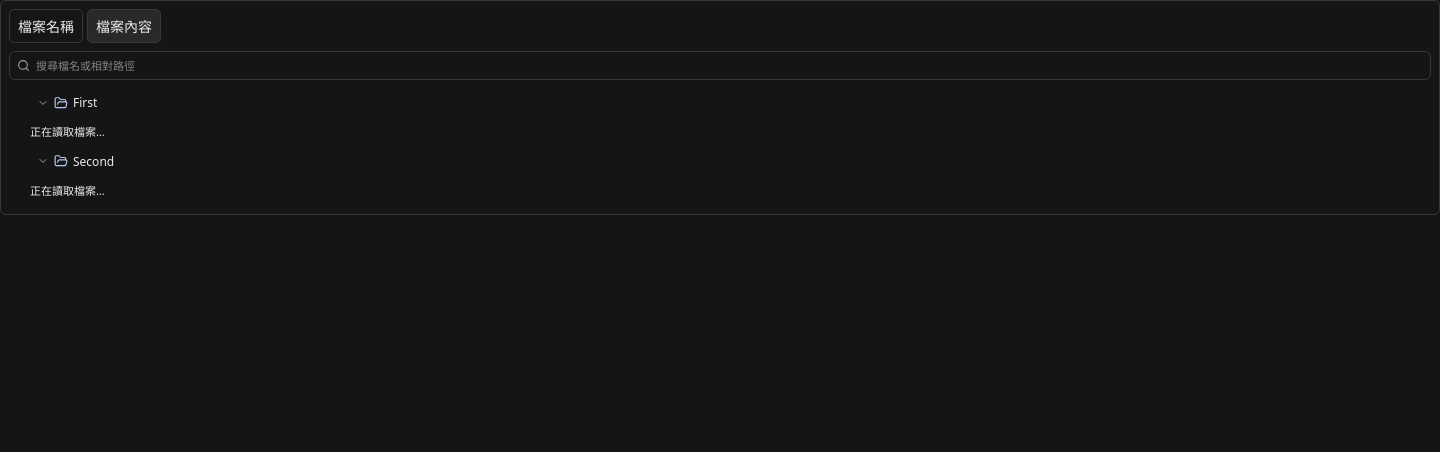
Test: project content search lifecycle › submits one aggregate query explicitly and exposes its effective project filters
The width and height of the screenshot is (1440, 452).
Click the button "檔案內容".
click(124, 26)  # box [87, 9, 161, 43]
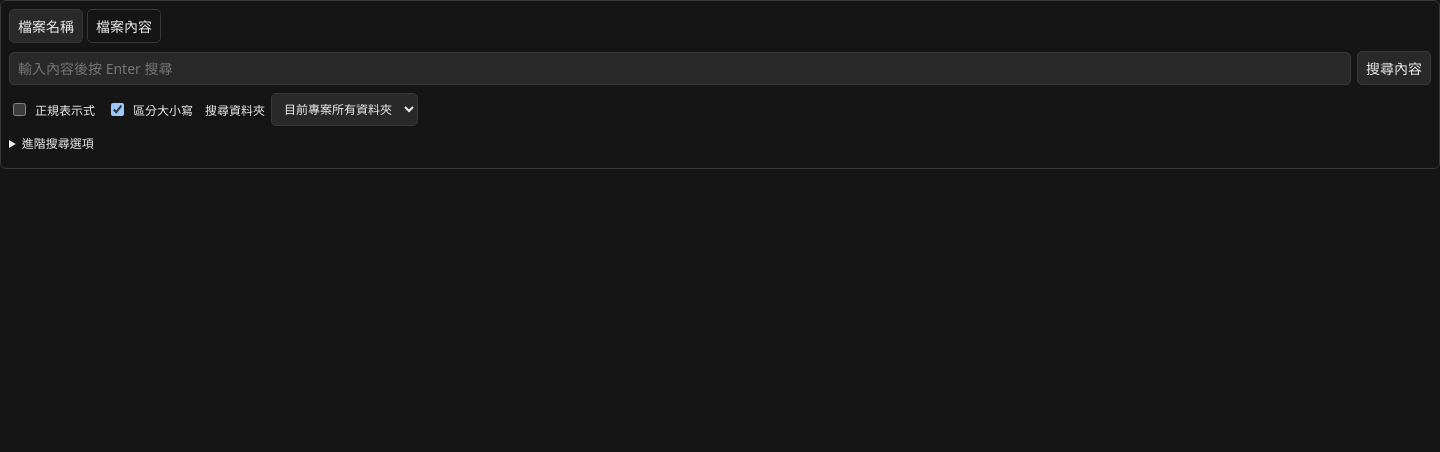
Type "needle" into the field named "搜尋專案檔案內容".
click(680, 68); type("needle")  # box [9, 52, 1351, 84]
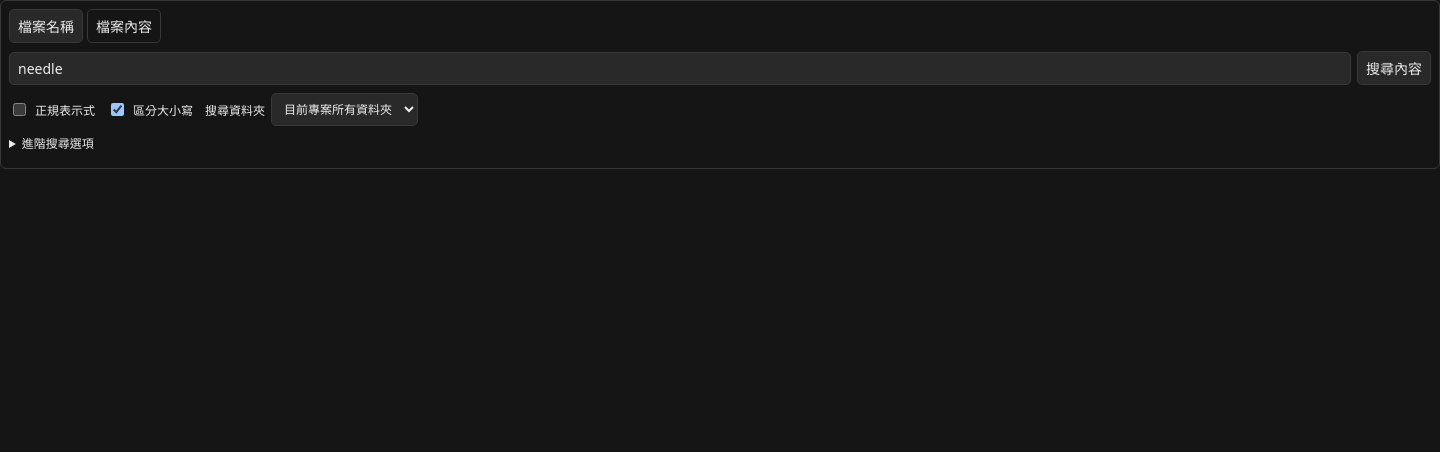
Submit the form named "搜尋檔案內容", box [9, 51, 1431, 152]
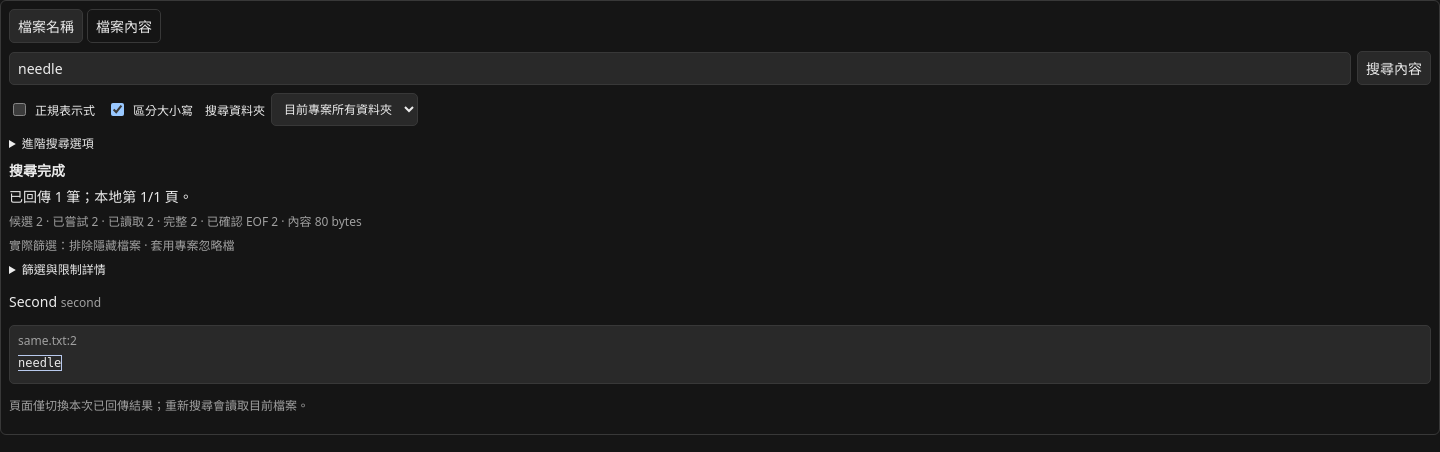
Now the button with aria-label "Second/same.txt:2" is shown, box [9, 325, 1431, 384]
Now the message named "搜尋結果摘要" shows "套用專案忽略檔", box [150, 237, 234, 254]
